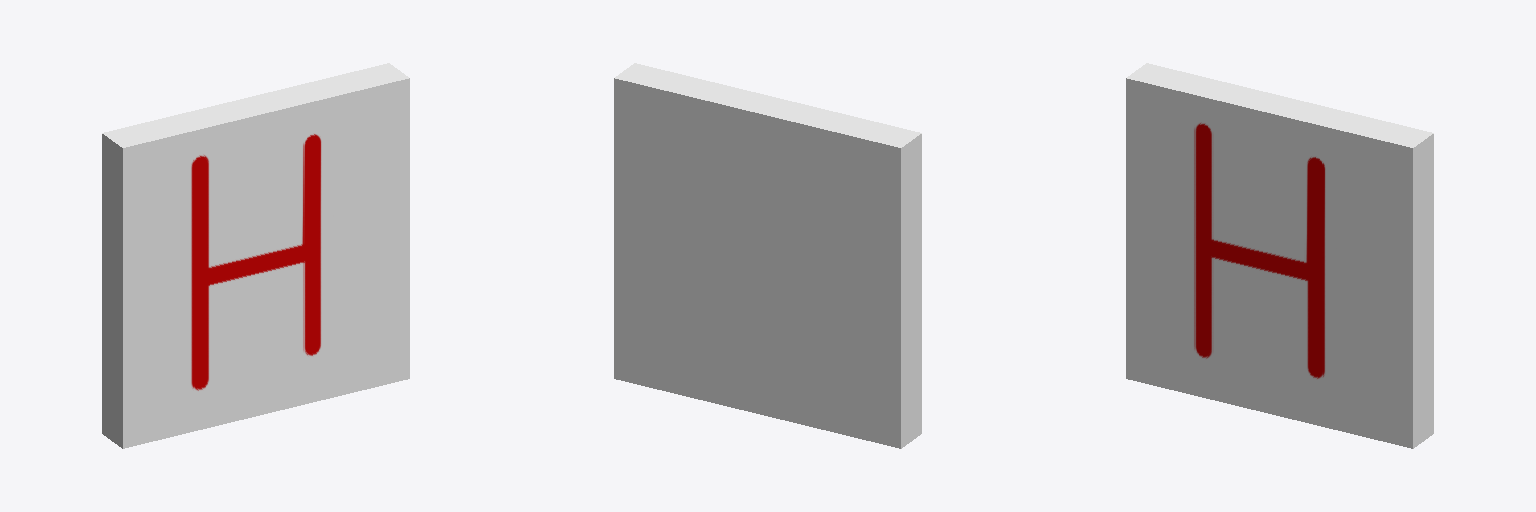
3 views of the same model, side by side, from view 1: azimuth 30°, elevation 25°; view 2: azimuth 150°, elevation 25°; view 3: azimuth 330°, elevation 25° (orthographic).
Parts seen in each view (by area): view 1: Cube; view 2: Cube; view 3: Cube.
Part boxes in pixels (x1,y1,x2,y2): Cube: (102, 63, 409, 448); Cube: (614, 63, 921, 448); Cube: (1126, 63, 1433, 448).
Size of the model in its own units: 8 by 8 by 1.
Materials: 1 (1 with a texture image).